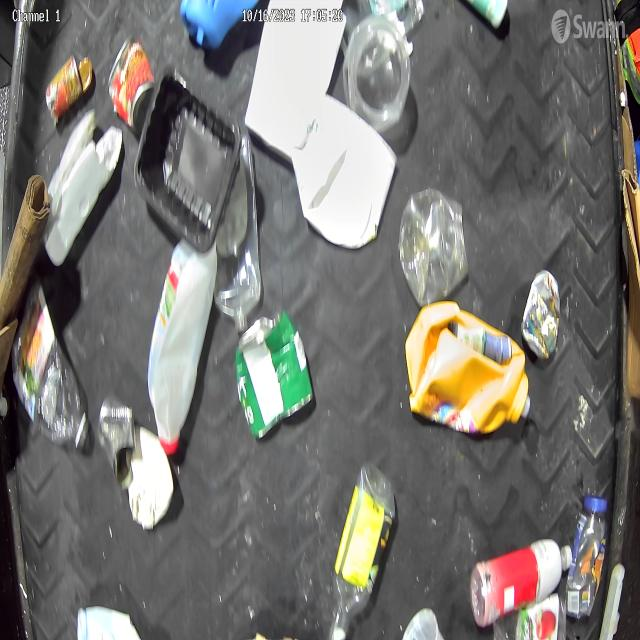can: (235, 309, 315, 440), (109, 33, 155, 126), (96, 393, 136, 490), (521, 269, 561, 359), (45, 53, 94, 122)
milk_jug: (148, 240, 222, 462), (244, 0, 342, 141), (294, 114, 392, 246)
non_white_jug: (396, 294, 538, 444)
plastic_bottle: (10, 280, 90, 450), (334, 458, 396, 640), (218, 130, 260, 330), (399, 187, 469, 306)
